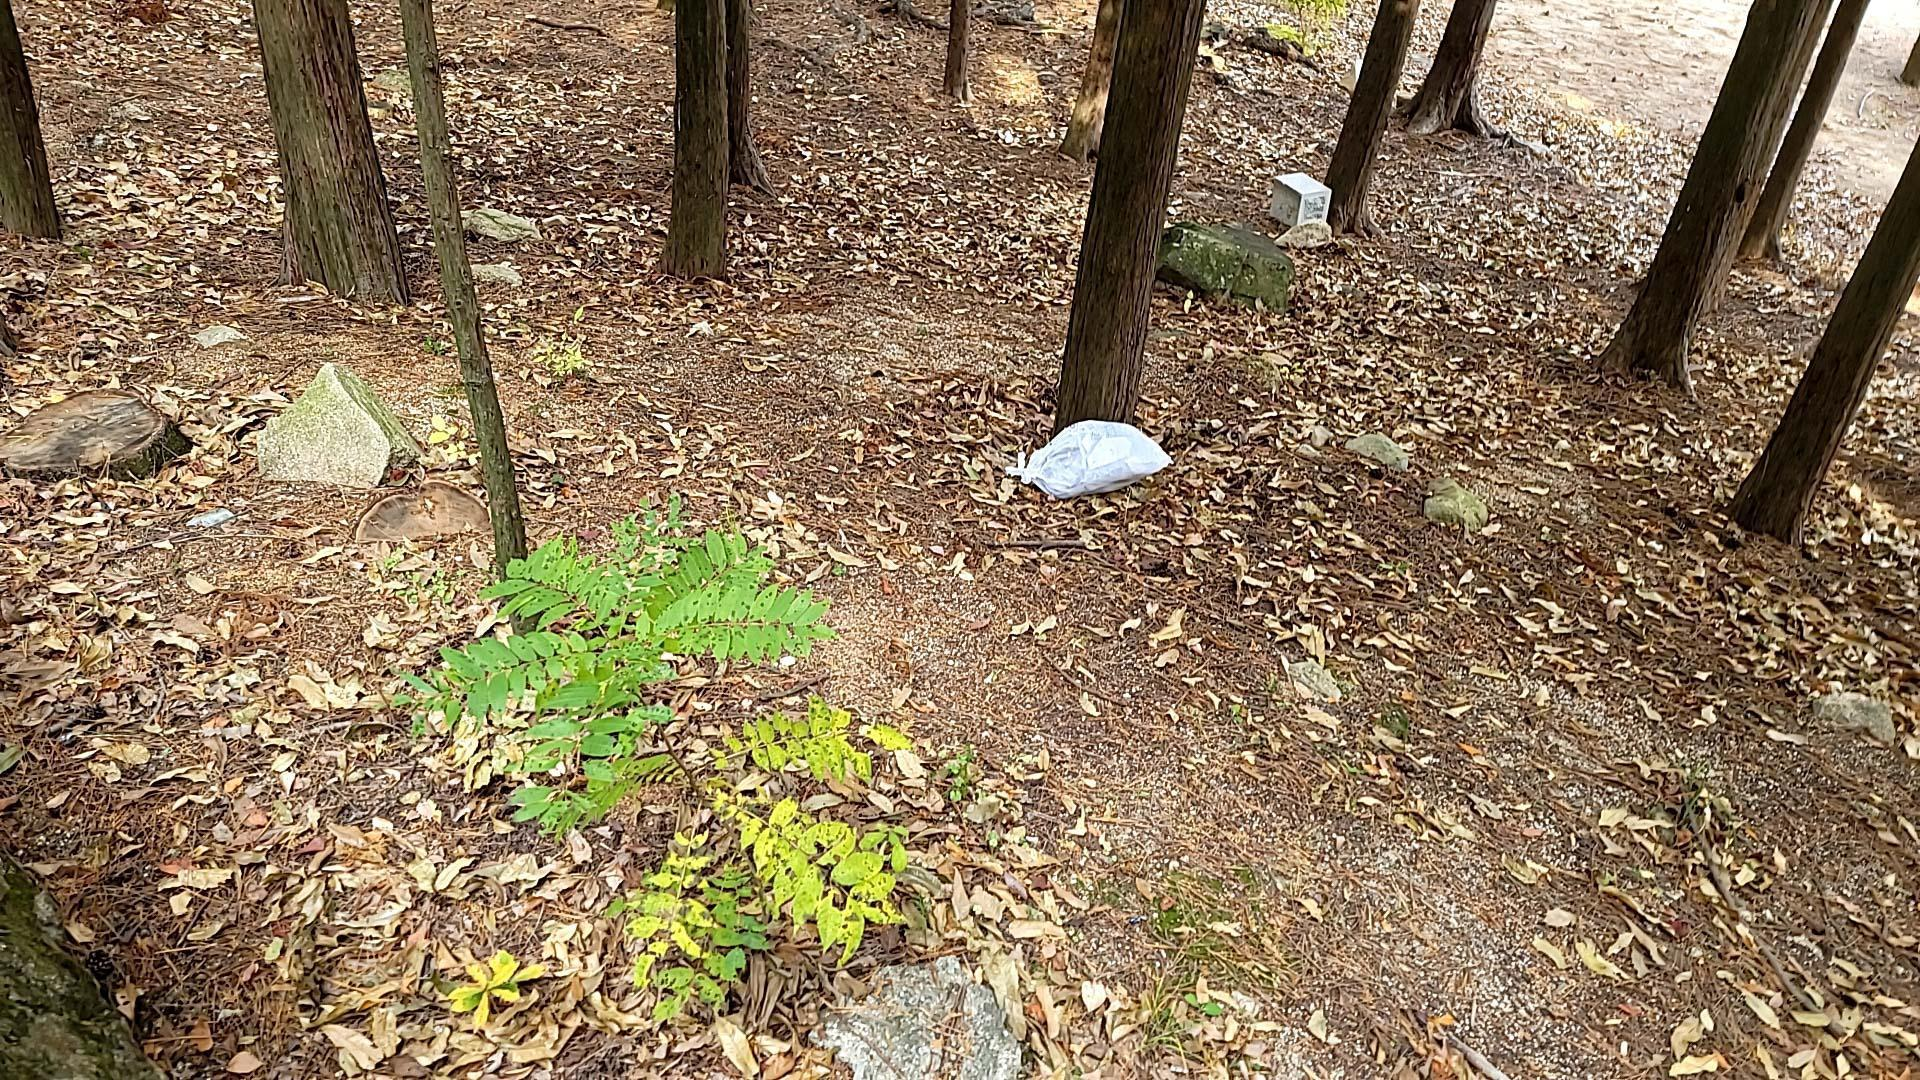white_bag: (1001, 415, 1174, 502)
